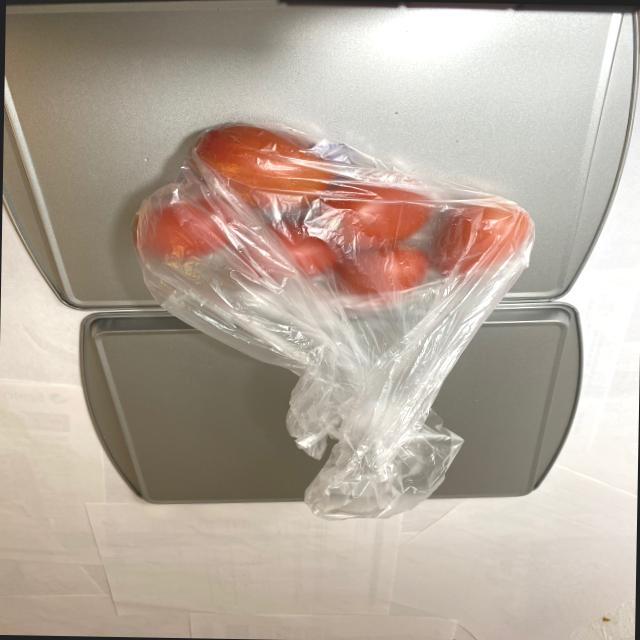tomato: (126, 121, 539, 299)
